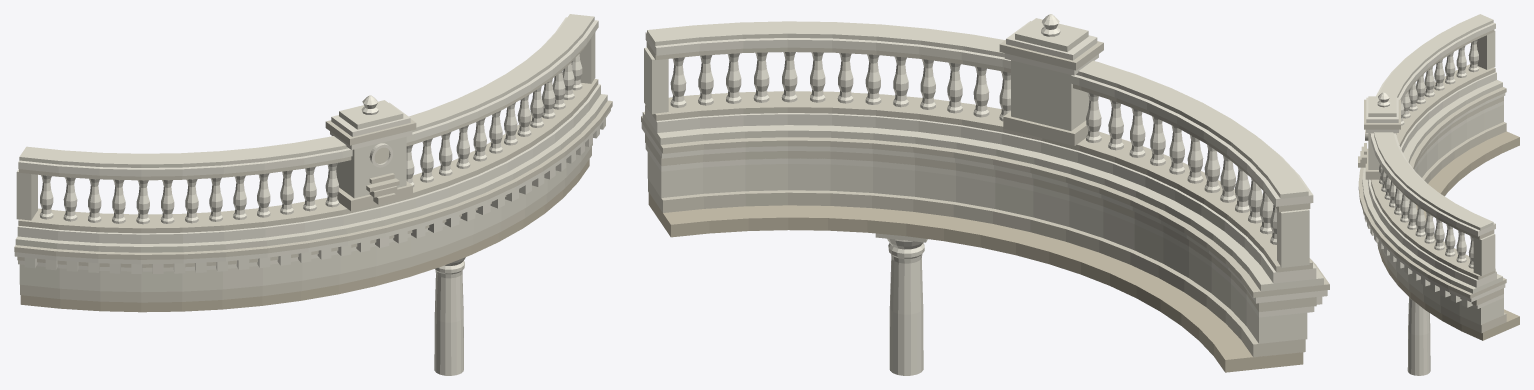
Rendered from jingan-kwok-brothers-residence-historic-front-lod.glb.
3 renders of one model, left to right at view 1: azimuth 30°, elevation 25°; view 2: azimuth 150°, elevation 25°; view 3: azimuth 270°, elevation 25°, orthographic. The views are drawn at different scales.
Parts seen in each view (by area): view 1: 郭氏兄弟住宅弧形檐廊; view 2: 郭氏兄弟住宅弧形檐廊; view 3: 郭氏兄弟住宅弧形檐廊.
Boxes of the visible parts, box(x1,y1,x2,y2) form: 郭氏兄弟住宅弧形檐廊: box(14, 14, 612, 375); 郭氏兄弟住宅弧形檐廊: box(641, 14, 1329, 375); 郭氏兄弟住宅弧形檐廊: box(1358, 14, 1519, 375).
Size of the model in its own units: 8.01 by 4.03 by 2.46.
